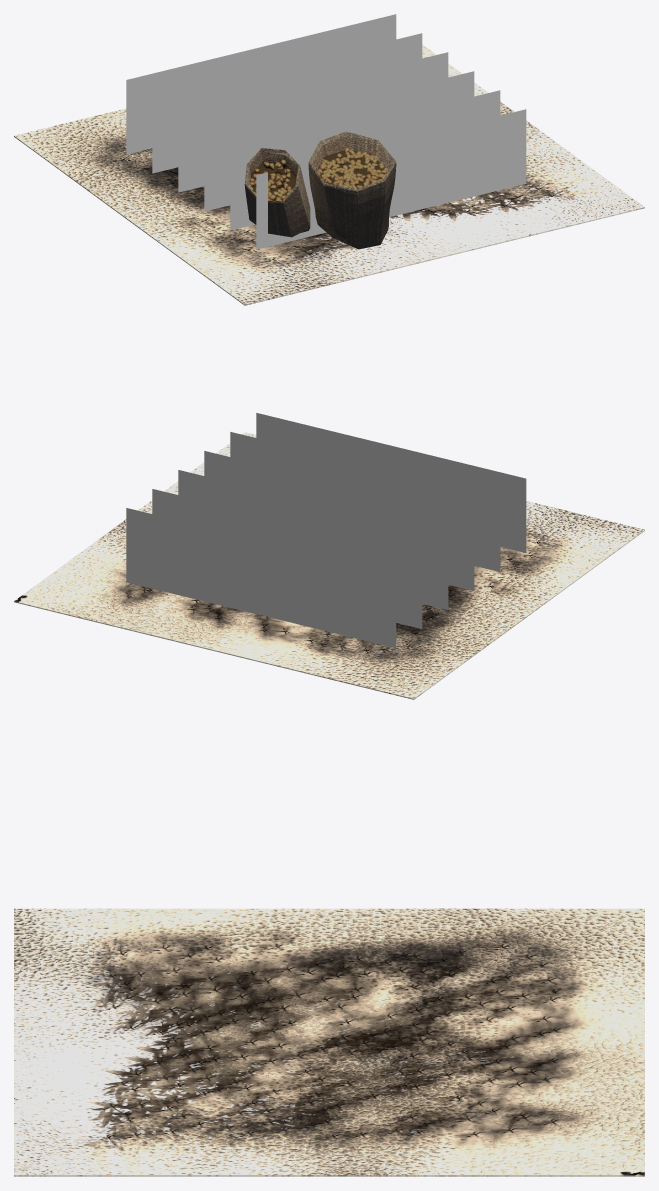
File: Ready.fbx
3 views of the same model, one above another, from view 1: azimuth 30°, elevation 25°; view 2: azimuth 150°, elevation 25°; view 3: azimuth 270°, elevation 25° (orthographic). The views are drawn at different scales.
Parts seen in each view (by area): view 1: plantDetail; view 2: plantDetail; view 3: plantDetail.
Part boxes in pixels (<box>): plantDetail: <box>14,14,644,305</box>; plantDetail: <box>14,413,644,699</box>; plantDetail: <box>14,908,644,1176</box>.
Size of the model in its own units: 400 by 151 by 400.
